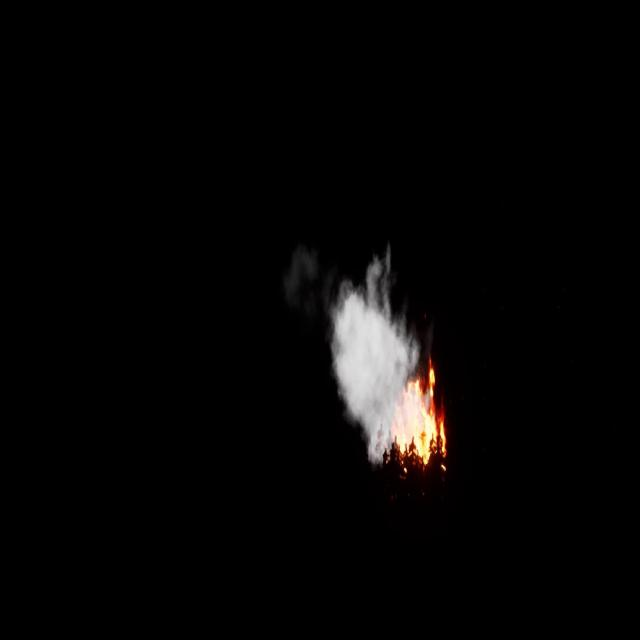fire: (394, 358, 451, 476)
smoke: (330, 242, 420, 456)
